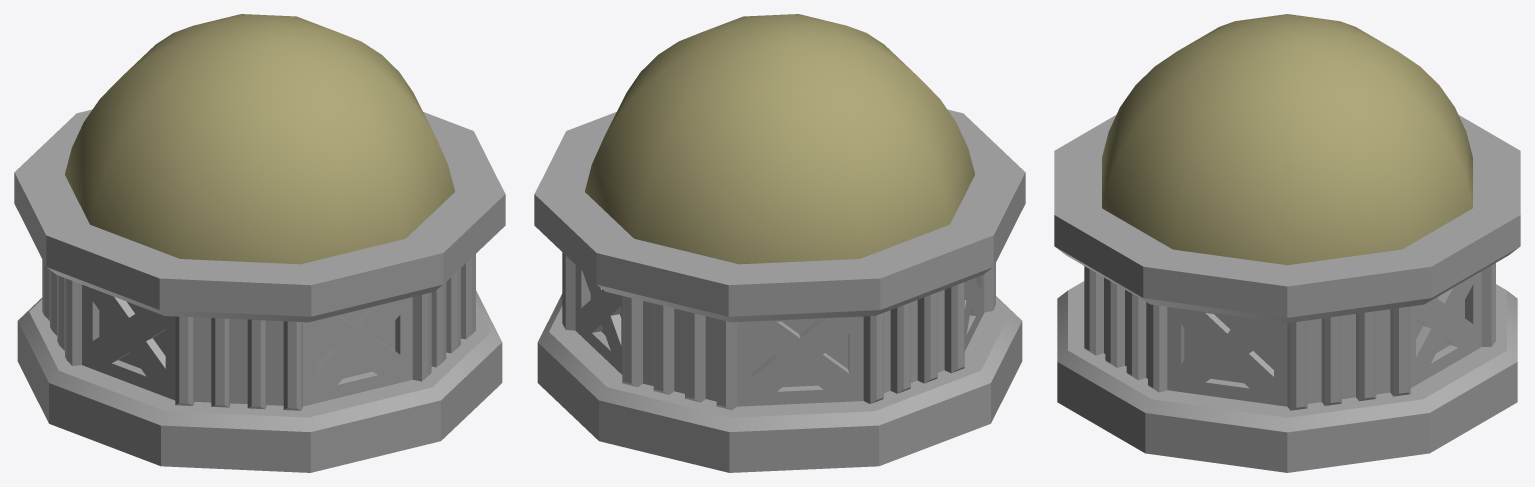
The model's file is weird_machine_light.fbx.
The picture shows the model from 3 angles, left to right: view 1: azimuth 30°, elevation 25°; view 2: azimuth 150°, elevation 25°; view 3: azimuth 270°, elevation 25°; orthographic projection.
Visible parts, largest first — view 1: weird_machinery_light; view 2: weird_machinery_light; view 3: weird_machinery_light.
Part boxes in pixels (x1,y1,x2,y2): weird_machinery_light: [14, 14, 505, 472]; weird_machinery_light: [534, 14, 1025, 472]; weird_machinery_light: [1054, 14, 1520, 472].
Size of the model in its own units: 3.41 by 2.6 by 3.25.
